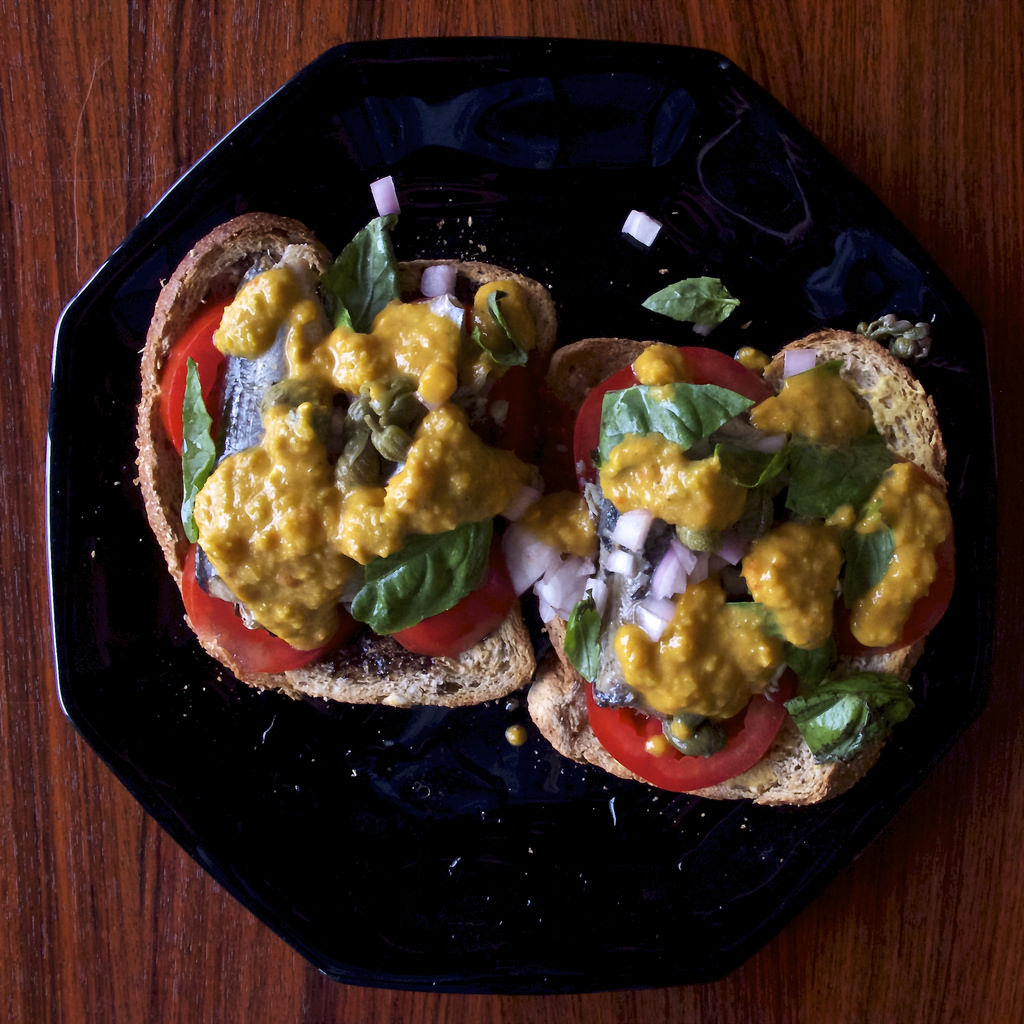slice of bread: (593, 350, 906, 817)
